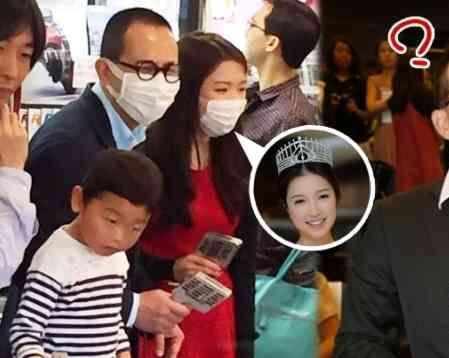NONE: (89, 208, 145, 260), (1, 36, 41, 108), (288, 187, 338, 238), (245, 14, 283, 64), (379, 45, 399, 69), (337, 46, 354, 67)
OK: (107, 53, 181, 125), (195, 77, 252, 134)
